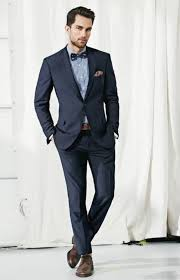F_M_suit jacket: (30, 45, 130, 148)
F_dress pants: (49, 124, 119, 269)
F_shirt: (63, 45, 95, 107)
F_tie: (68, 50, 88, 62)
